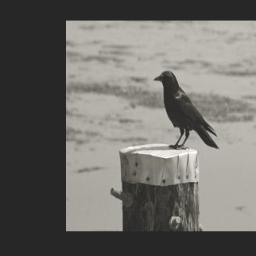Crow: (153, 67, 221, 153)
